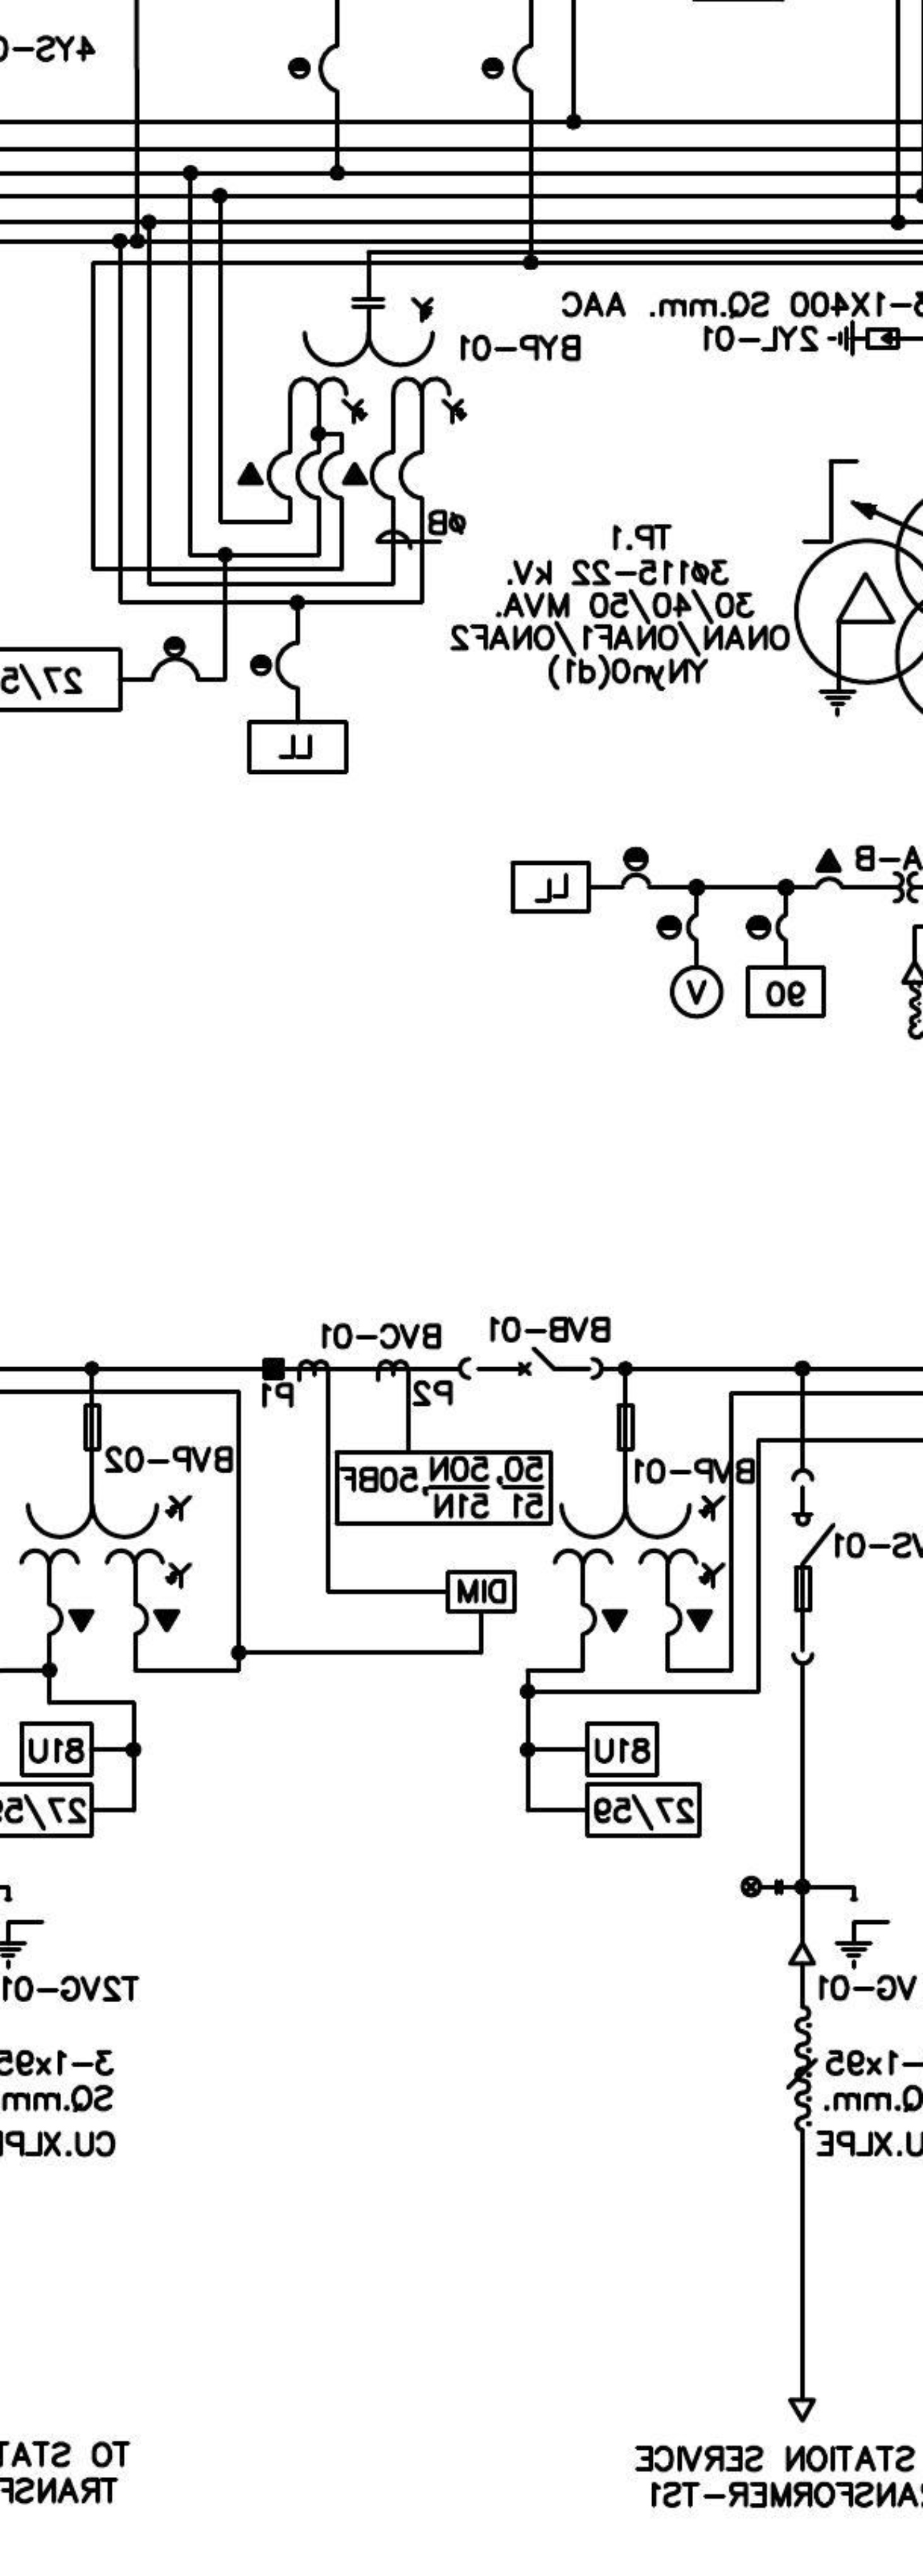115_cvt_3p: (287, 296, 470, 425)
115_la: (826, 319, 900, 358)
22_breaker: (457, 1345, 604, 1382)
22_ds: (790, 1467, 836, 1666)
22_gs: (833, 1896, 892, 1970)
22_ll: (739, 1874, 783, 1899)
22_vt_3p: (550, 1401, 728, 1638), (18, 1401, 194, 1638)
DIM: (445, 1569, 517, 1613)
LL: (246, 720, 348, 775), (511, 861, 591, 915)
terminator_single: (787, 2395, 816, 2423), (787, 1942, 816, 1967)
v_m: (668, 964, 724, 1020)
